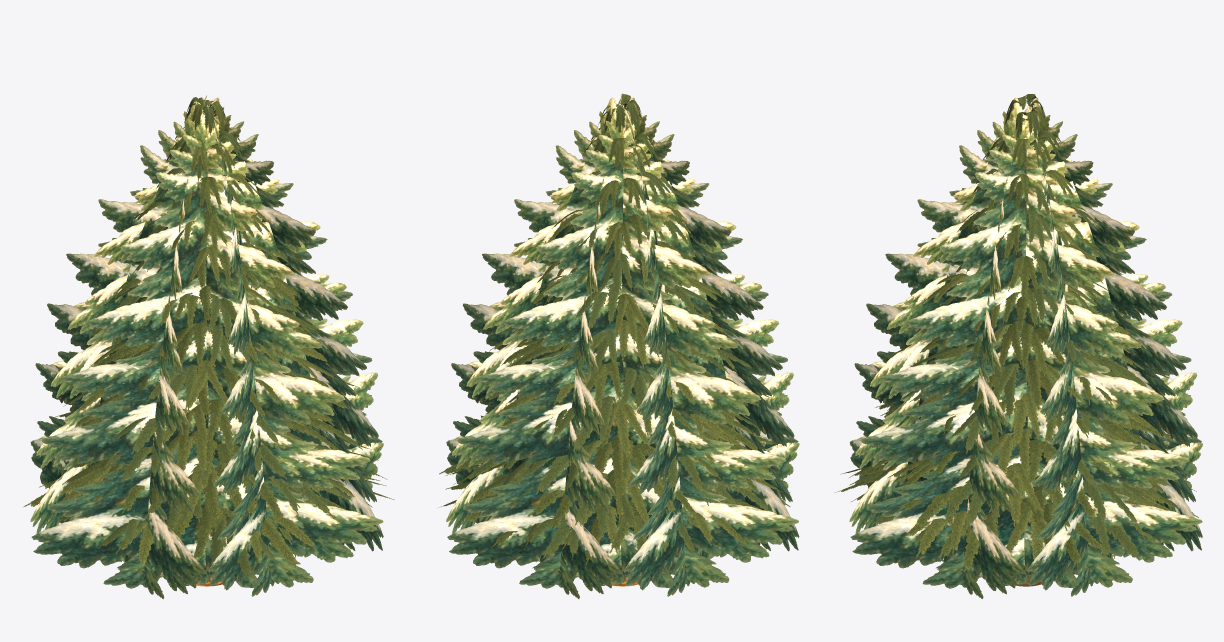
Rendered from SnowSpruce.glb.
3 views of the same model, side by side, from view 1: azimuth 30°, elevation 25°; view 2: azimuth 150°, elevation 25°; view 3: azimuth 270°, elevation 25° (orthographic).
Parts seen in each view (by area): view 1: Layered painted fir.002, Branch fans 1.002, Branch fans 0.002, Branch fans 2.002; view 2: Layered painted fir.002, Branch fans 2.002, Branch fans 0.002, Branch fans 1.002; view 3: Layered painted fir.002, Branch fans 1.002, Branch fans 0.002, Branch fans 2.002.
Boxes of the visible parts, bbox=[...] form: Layered painted fir.002: bbox=[30, 95, 383, 599]; Branch fans 1.002: bbox=[53, 97, 387, 558]; Branch fans 0.002: bbox=[23, 100, 394, 568]; Branch fans 2.002: bbox=[45, 97, 371, 579]; Layered painted fir.002: bbox=[446, 97, 799, 598]; Branch fans 2.002: bbox=[439, 99, 790, 558]; Branch fans 0.002: bbox=[462, 93, 790, 564]; Branch fans 1.002: bbox=[446, 104, 777, 553]; Layered painted fir.002: bbox=[849, 95, 1202, 598]; Branch fans 1.002: bbox=[865, 100, 1198, 572]; Branch fans 0.002: bbox=[835, 95, 1188, 559]; Branch fans 2.002: bbox=[840, 94, 1196, 560].
Bounding box in the file's own units: 2.5 × 3.25 × 2.33.
4 materials, 4 textured.
